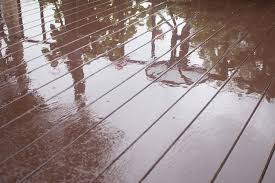Wet-floor: (1, 1, 275, 182)
